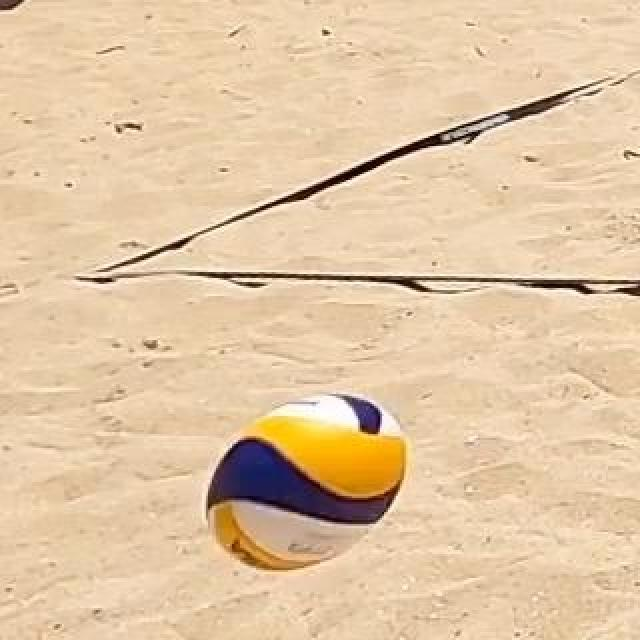volleyball: (207, 392, 409, 574)
